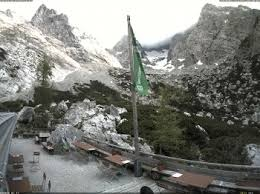Flag: (128, 22, 152, 98)
